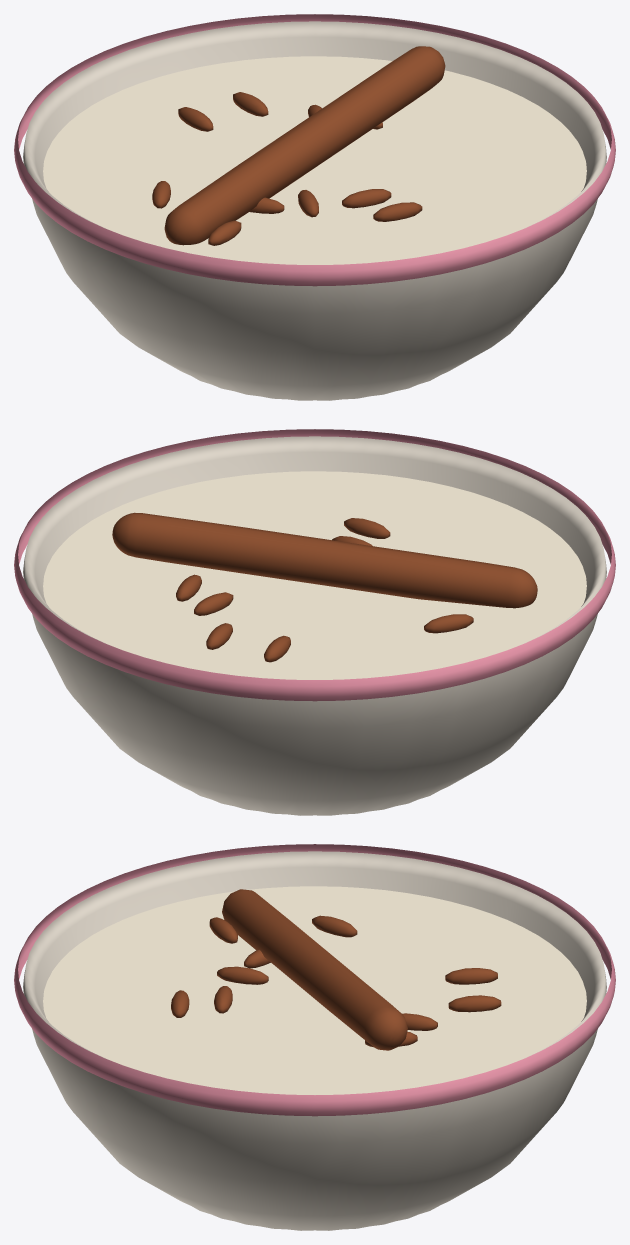
Rendered from comida_arroz_leche.glb.
3 views of the same model, one above another, from view 1: azimuth 30°, elevation 25°; view 2: azimuth 150°, elevation 25°; view 3: azimuth 270°, elevation 25° (orthographic).
Visible parts, largest first — view 1: tazón.004, arroz con leche.001, borde tazón.004, canela.001, chispa 9.007, chispa 7.007, chispa 8.007, chispa 3.007, chispa 0.007; view 2: tazón.004, arroz con leche.001, canela.001, borde tazón.004, chispa 4.007, chispa 7.007, chispa 1.007; view 3: arroz con leche.001, tazón.004, borde tazón.004, canela.001, chispa 3.007, chispa 8.007, chispa 5.007, chispa 4.007.
Part boxes in pixels (x1,y1,x2,y2): tazón.004: (23, 21, 606, 400); arroz con leche.001: (43, 56, 586, 264); borde tazón.004: (14, 14, 615, 286); canela.001: (164, 46, 445, 245); chispa 9.007: (342, 189, 391, 208); chispa 7.007: (373, 202, 422, 221); chispa 8.007: (233, 92, 268, 116); chispa 3.007: (178, 107, 213, 131); chispa 0.007: (208, 220, 241, 245); tazón.004: (23, 436, 606, 815); arroz con leche.001: (43, 471, 586, 679); canela.001: (112, 512, 537, 608); borde tazón.004: (14, 429, 615, 701); chispa 4.007: (424, 614, 473, 633); chispa 7.007: (344, 518, 390, 538); chispa 1.007: (194, 592, 233, 615); arroz con leche.001: (43, 886, 586, 1094); tazón.004: (23, 851, 606, 1230); borde tazón.004: (14, 844, 615, 1116); canela.001: (222, 889, 407, 1050); chispa 3.007: (445, 968, 497, 984); chispa 8.007: (448, 995, 501, 1012); chispa 5.007: (217, 966, 268, 984); chispa 4.007: (312, 915, 357, 937).
Size of the model in its own units: 0.2595 by 0.1147 by 0.2595.
